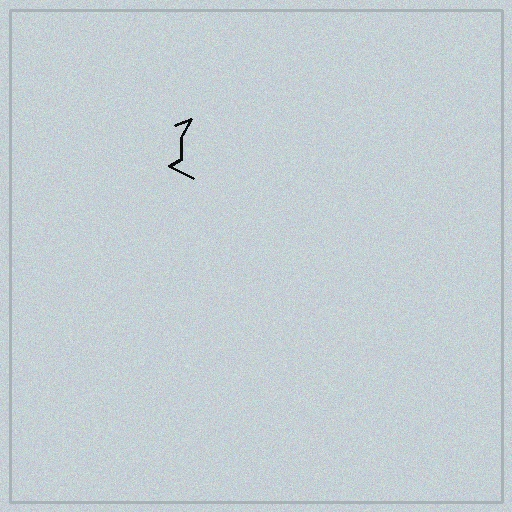crack: (165, 115, 197, 182)
